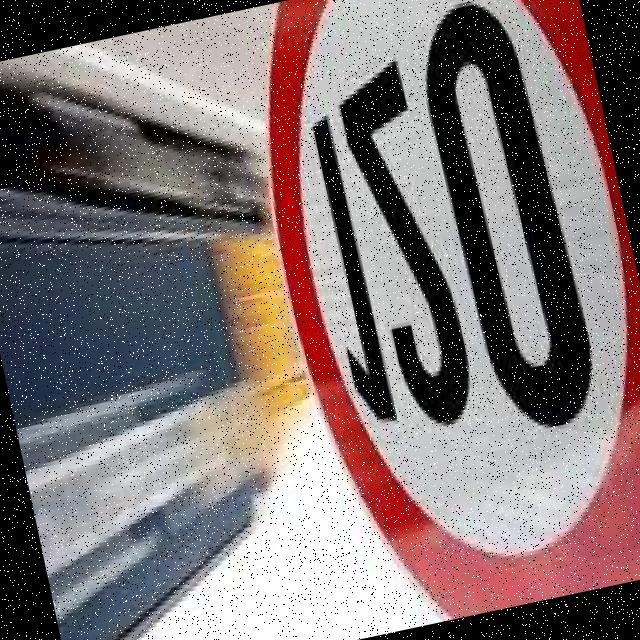speed_limit_120: (223, 0, 640, 635)
